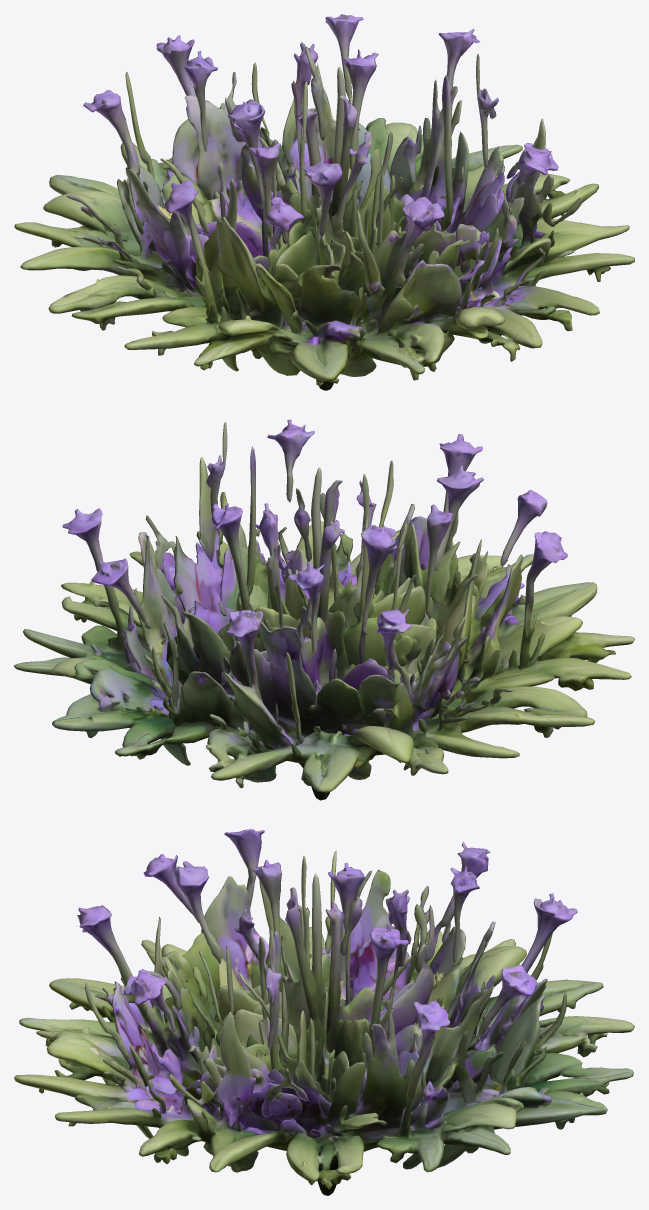
The model's file is nature-flower-wild-purple.glb.
3 renders of one model, top to bottom at view 1: azimuth 30°, elevation 25°; view 2: azimuth 150°, elevation 25°; view 3: azimuth 270°, elevation 25°, orthographic.
Parts seen in each view (by area): view 1: tripo_node_f5798d1f-2cd0-43b6-bf8d-51ff6749c0d0; view 2: tripo_node_f5798d1f-2cd0-43b6-bf8d-51ff6749c0d0; view 3: tripo_node_f5798d1f-2cd0-43b6-bf8d-51ff6749c0d0.
Boxes of the visible parts, x1,y1,x2,y2 form: tripo_node_f5798d1f-2cd0-43b6-bf8d-51ff6749c0d0: (14, 14, 634, 390); tripo_node_f5798d1f-2cd0-43b6-bf8d-51ff6749c0d0: (14, 419, 634, 800); tripo_node_f5798d1f-2cd0-43b6-bf8d-51ff6749c0d0: (14, 829, 634, 1195).
Size of the model in its own units: 0.8657 by 0.5 by 0.8629.
1 material, 1 textured.
